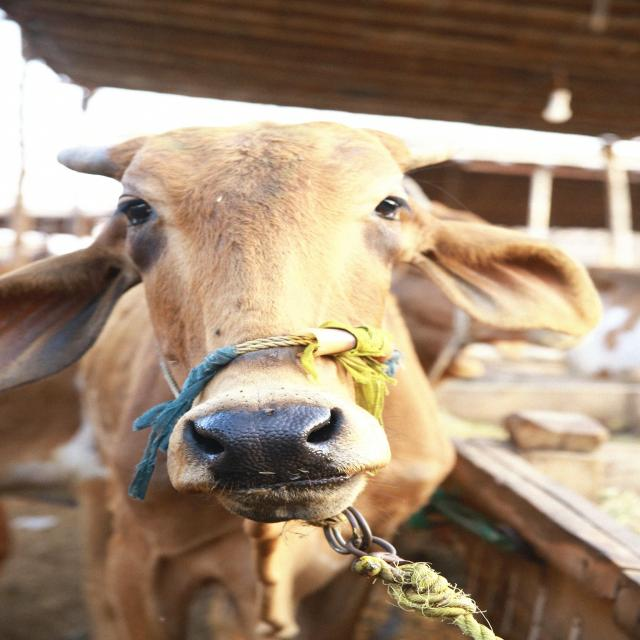muzzles: (179, 400, 374, 490)
